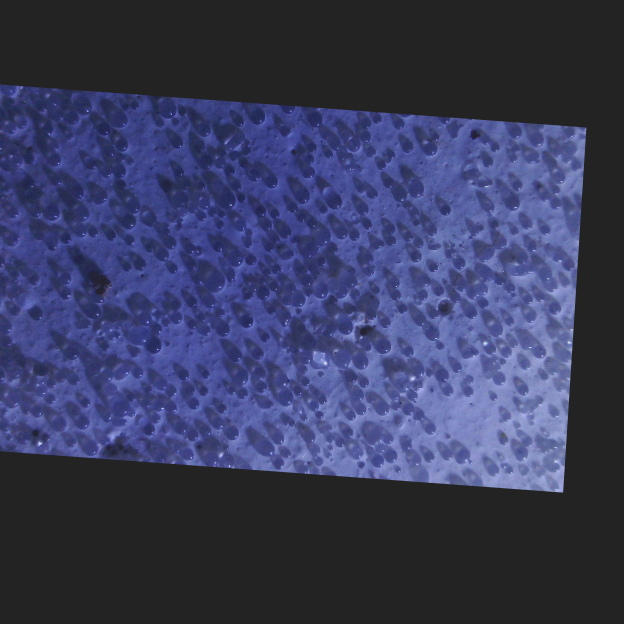GrassBeadSeg: (428, 394, 448, 427), (354, 292, 374, 325), (182, 383, 199, 411), (397, 159, 414, 187), (273, 138, 290, 166), (265, 7, 282, 34), (204, 412, 220, 440), (223, 413, 239, 441), (222, 355, 238, 383), (70, 341, 86, 369), (95, 559, 111, 587), (278, 483, 294, 511), (293, 573, 309, 601), (325, 453, 341, 481), (337, 251, 353, 279), (250, 204, 266, 232), (266, 230, 282, 258), (272, 314, 288, 342), (444, 523, 460, 551), (505, 554, 521, 582), (554, 521, 570, 549), (604, 454, 620, 482), (525, 197, 541, 225), (495, 194, 511, 222), (448, 203, 464, 231), (427, 195, 443, 223), (444, 176, 460, 204), (499, 14, 515, 42), (463, 31, 479, 59), (349, 155, 365, 183), (584, 92, 600, 120), (595, 4, 611, 32), (415, 8, 431, 36), (241, 144, 257, 172), (324, 8, 340, 36), (159, 112, 175, 140), (175, 122, 191, 150), (148, 42, 164, 70), (62, 123, 78, 151), (46, 42, 62, 70), (41, 13, 57, 41), (133, 355, 149, 383), (187, 536, 203, 564), (259, 384, 275, 412), (249, 297, 265, 325), (221, 274, 237, 302), (566, 398, 582, 426), (414, 411, 429, 438), (461, 77, 473, 99), (479, 167, 491, 189), (502, 161, 514, 183), (527, 111, 539, 133), (538, 60, 550, 82), (575, 63, 587, 85), (473, 89, 485, 111), (497, 227, 509, 249), (595, 250, 607, 272), (524, 254, 536, 276), (435, 278, 447, 300), (413, 258, 425, 280), (479, 364, 491, 386), (461, 472, 473, 494), (372, 508, 384, 530), (378, 487, 390, 509), (371, 561, 383, 583), (494, 480, 506, 502), (570, 485, 582, 507), (555, 479, 567, 501), (465, 387, 477, 409), (308, 312, 320, 334), (324, 360, 336, 382), (362, 332, 374, 354), (491, 112, 503, 133), (480, 53, 492, 74), (512, 39, 524, 60), (564, 51, 576, 72), (566, 117, 578, 138), (540, 1, 552, 22), (508, 337, 520, 358), (536, 376, 548, 397), (579, 365, 591, 386), (426, 370, 438, 391), (483, 443, 495, 464), (430, 463, 442, 484), (331, 554, 343, 575), (346, 539, 358, 560), (358, 553, 370, 574), (349, 575, 361, 596), (415, 557, 427, 578), (483, 554, 495, 575), (526, 505, 538, 526), (541, 586, 553, 607), (561, 570, 573, 591), (585, 452, 597, 473), (604, 539, 616, 560), (578, 0, 590, 21), (271, 99, 283, 120), (287, 241, 299, 262), (333, 421, 345, 442), (374, 596, 386, 617), (406, 514, 418, 535), (262, 417, 274, 438), (182, 582, 194, 603), (169, 574, 181, 595), (181, 494, 193, 515), (207, 474, 219, 495), (472, 598, 484, 619), (462, 122, 473, 144), (586, 40, 597, 62), (566, 252, 577, 274), (529, 540, 540, 562), (498, 438, 509, 460), (347, 378, 358, 400), (324, 484, 335, 506), (350, 603, 362, 623), (512, 242, 523, 263), (383, 551, 394, 572), (460, 540, 471, 561), (227, 49, 238, 70), (376, 98, 387, 119), (123, 431, 134, 452), (336, 603, 347, 623), (158, 232, 169, 251), (144, 185, 155, 204), (206, 242, 217, 261), (113, 238, 124, 257), (98, 288, 109, 307), (98, 322, 109, 341), (72, 198, 83, 217), (18, 265, 29, 284), (14, 214, 25, 233), (2, 228, 13, 247), (88, 279, 99, 298), (89, 224, 100, 243), (87, 139, 98, 158), (17, 80, 28, 99), (65, 9, 76, 28), (214, 158, 225, 177), (326, 115, 337, 134), (308, 124, 319, 143), (375, 169, 386, 188), (336, 202, 347, 221), (383, 73, 394, 92), (414, 214, 425, 233), (406, 240, 417, 259), (376, 297, 387, 316), (366, 384, 377, 403), (395, 367, 406, 386), (310, 419, 321, 438), (266, 287, 277, 306), (160, 395, 171, 414), (76, 381, 87, 400), (61, 383, 72, 402), (41, 402, 52, 421), (41, 368, 52, 387), (26, 380, 37, 399), (0, 385, 11, 404), (109, 415, 120, 434), (66, 586, 77, 605), (214, 446, 225, 465), (204, 573, 215, 592), (305, 473, 316, 492), (284, 460, 295, 479), (379, 45, 390, 64), (108, 83, 119, 102), (131, 150, 142, 168), (110, 276, 121, 294), (70, 261, 81, 279), (50, 223, 61, 241), (25, 247, 36, 265), (38, 321, 49, 339), (183, 9, 194, 27), (246, 52, 257, 70), (405, 69, 416, 87), (324, 258, 335, 276), (381, 337, 392, 355), (396, 343, 407, 361), (371, 363, 382, 381), (415, 390, 426, 408), (321, 304, 332, 322), (238, 296, 249, 314), (254, 252, 265, 270), (185, 348, 196, 366), (149, 341, 160, 359), (234, 203, 245, 221), (230, 303, 241, 321), (41, 446, 52, 464), (132, 522, 143, 540), (147, 428, 158, 446), (199, 335, 210, 353), (291, 208, 301, 227), (117, 456, 127, 475), (97, 435, 107, 454), (66, 430, 76, 449), (114, 566, 124, 585), (39, 557, 49, 576), (174, 545, 184, 564), (308, 452, 318, 471), (14, 304, 24, 322), (174, 47, 184, 65), (217, 36, 227, 54), (361, 98, 371, 116), (148, 274, 158, 292), (155, 493, 165, 511), (153, 469, 163, 487), (204, 500, 214, 518), (253, 553, 263, 571), (285, 560, 295, 578), (210, 185, 219, 201), (186, 189, 195, 205), (205, 263, 214, 279), (217, 305, 226, 321), (243, 230, 252, 246), (178, 281, 187, 297), (304, 178, 313, 194), (311, 199, 320, 215), (307, 236, 316, 252), (218, 123, 227, 139), (133, 289, 142, 305), (43, 293, 52, 309), (101, 182, 110, 198), (48, 165, 57, 181), (61, 177, 70, 193), (6, 260, 15, 276), (61, 100, 70, 116), (21, 126, 30, 142), (32, 115, 41, 131), (67, 54, 76, 70), (65, 38, 74, 54), (12, 50, 21, 66), (3, 58, 12, 74), (22, 39, 31, 55), (11, 5, 20, 21), (163, 159, 172, 175), (190, 62, 199, 78), (191, 112, 200, 128), (272, 81, 281, 97), (270, 61, 279, 77), (211, 61, 220, 77), (339, 155, 348, 171), (329, 231, 338, 247), (302, 220, 311, 236), (396, 140, 405, 156), (348, 84, 357, 100), (397, 187, 406, 203), (352, 111, 361, 127), (403, 284, 412, 300), (460, 148, 469, 164), (463, 102, 472, 118), (368, 85, 377, 101), (526, 149, 535, 165), (597, 172, 606, 188), (580, 183, 589, 199), (553, 158, 562, 174), (534, 17, 543, 33), (510, 315, 519, 331), (487, 388, 496, 404), (435, 430, 444, 446), (565, 431, 574, 447), (559, 376, 568, 392), (594, 495, 603, 511), (483, 523, 492, 539), (612, 509, 621, 525), (422, 518, 431, 534), (223, 558, 232, 574), (169, 490, 178, 506), (58, 535, 67, 551), (57, 494, 66, 510), (34, 534, 43, 550), (36, 584, 45, 600), (8, 482, 17, 498), (97, 457, 106, 473), (13, 409, 22, 425), (14, 350, 23, 366), (144, 582, 153, 598), (78, 426, 87, 442), (354, 69, 363, 85), (445, 464, 454, 480), (200, 219, 209, 235), (82, 170, 91, 185), (386, 179, 395, 194), (520, 608, 529, 623), (518, 522, 527, 537), (395, 522, 404, 537), (406, 484, 415, 499), (580, 573, 589, 588), (336, 482, 345, 497), (363, 460, 372, 475), (277, 584, 286, 599), (298, 503, 307, 518), (269, 477, 278, 492), (283, 603, 292, 618), (215, 542, 224, 557), (171, 472, 180, 487), (4, 608, 13, 623), (16, 547, 25, 562), (222, 205, 230, 221), (185, 209, 193, 225), (256, 164, 264, 180), (177, 302, 185, 318), (318, 176, 326, 192), (207, 132, 215, 148), (168, 200, 176, 216), (156, 210, 164, 226), (141, 249, 149, 265), (137, 329, 145, 345), (169, 324, 177, 340), (150, 299, 158, 315), (117, 298, 125, 314), (62, 275, 70, 291), (88, 305, 96, 321), (61, 331, 69, 347), (30, 173, 38, 189), (43, 203, 51, 219), (22, 103, 30, 119), (86, 38, 94, 54), (96, 26, 104, 42), (93, 65, 101, 81), (200, 82, 208, 98), (254, 69, 262, 85), (207, 5, 215, 21), (217, 14, 225, 30), (257, 37, 265, 53), (299, 37, 307, 53), (266, 189, 274, 205), (277, 181, 285, 197), (359, 202, 367, 218), (368, 182, 376, 198), (346, 27, 354, 43), (378, 192, 386, 208), (344, 136, 352, 152), (338, 96, 346, 112), (358, 241, 366, 257), (387, 249, 395, 265), (299, 272, 307, 288), (300, 302, 308, 318), (354, 353, 362, 369), (385, 276, 393, 292), (283, 304, 291, 320), (428, 251, 436, 267), (449, 240, 457, 256), (468, 236, 476, 252), (486, 231, 494, 247), (477, 129, 485, 145), (454, 107, 462, 123), (426, 38, 434, 54), (403, 15, 411, 31), (453, 11, 461, 27), (555, 116, 563, 132), (575, 165, 583, 181), (568, 210, 576, 226), (603, 212, 611, 228), (589, 67, 597, 83), (599, 65, 607, 81), (613, 51, 621, 67), (531, 91, 539, 107), (545, 26, 553, 42), (545, 205, 553, 221), (609, 274, 617, 290), (542, 321, 550, 337), (592, 299, 600, 315), (614, 251, 622, 267), (467, 423, 475, 439), (610, 429, 618, 445), (519, 494, 527, 510), (509, 482, 517, 498), (603, 523, 611, 539), (542, 542, 550, 558), (522, 587, 530, 603), (495, 591, 503, 607), (461, 585, 469, 601), (437, 508, 445, 524), (364, 487, 372, 503), (345, 516, 353, 532), (266, 440, 274, 456), (306, 389, 314, 405), (381, 376, 389, 392), (234, 553, 242, 569), (248, 576, 256, 592), (193, 569, 201, 585), (182, 564, 190, 580), (195, 481, 203, 497), (133, 573, 141, 589), (156, 555, 164, 571), (22, 422, 30, 438), (55, 368, 63, 384), (0, 362, 8, 378), (145, 503, 153, 519), (302, 341, 310, 357), (222, 332, 230, 348), (197, 295, 205, 311), (19, 586, 27, 602), (8, 537, 16, 553), (5, 575, 13, 591), (517, 69, 525, 85), (528, 40, 536, 56), (411, 34, 419, 50), (259, 609, 268, 623), (286, 167, 294, 182), (31, 288, 39, 303), (403, 120, 411, 135), (336, 76, 344, 91), (593, 191, 601, 206), (578, 295, 586, 310), (597, 574, 605, 589), (420, 492, 428, 507), (397, 493, 405, 508), (411, 541, 419, 556), (386, 464, 394, 479), (407, 377, 415, 392), (263, 460, 271, 475), (388, 588, 396, 603), (244, 488, 252, 503), (246, 516, 254, 531), (244, 593, 252, 608), (215, 513, 223, 528), (40, 481, 48, 496), (5, 437, 13, 452), (252, 501, 260, 516), (203, 455, 211, 469), (70, 414, 78, 427), (65, 403, 73, 416), (339, 583, 347, 596), (565, 549, 573, 562), (308, 280, 316, 293), (265, 311, 273, 324), (405, 413, 413, 426), (326, 322, 334, 334), (129, 385, 137, 397), (46, 510, 54, 522), (235, 584, 243, 596), (444, 554, 452, 566), (548, 466, 556, 478), (607, 413, 615, 425), (288, 362, 296, 374), (240, 321, 248, 333), (380, 142, 388, 154), (72, 464, 79, 477), (263, 522, 270, 535), (275, 534, 282, 547), (436, 536, 443, 549), (456, 405, 463, 418), (476, 348, 483, 361), (358, 186, 365, 199), (345, 294, 352, 307), (139, 432, 146, 444), (73, 400, 80, 412), (42, 524, 49, 536), (52, 587, 59, 599), (164, 600, 171, 612), (201, 597, 208, 609), (559, 594, 566, 606), (593, 388, 600, 400), (450, 289, 457, 301), (379, 252, 386, 264), (407, 201, 414, 213), (275, 344, 281, 354), (249, 448, 255, 457), (234, 572, 240, 581), (237, 539, 243, 548), (154, 583, 160, 592), (116, 539, 122, 548), (59, 581, 65, 590), (32, 506, 38, 515), (162, 179, 168, 188), (194, 77, 200, 86), (154, 315, 160, 324), (129, 25, 135, 34), (130, 276, 135, 286), (203, 398, 208, 407), (148, 33, 153, 42)
